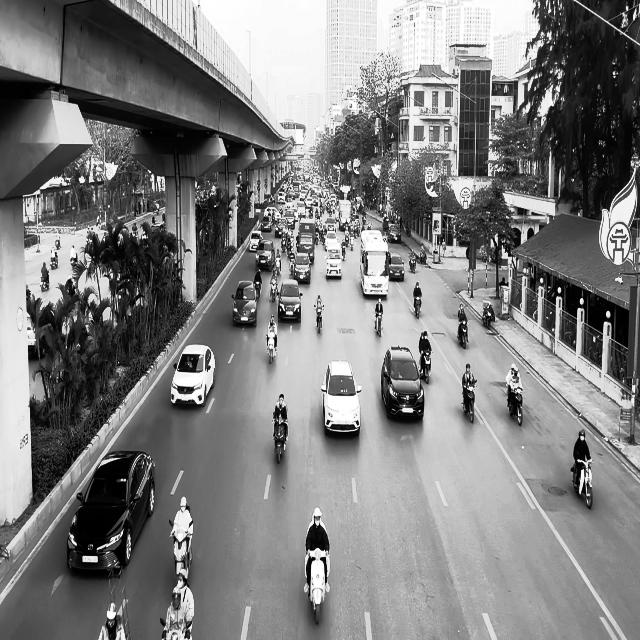car: (67, 450, 156, 575), (381, 345, 425, 421), (321, 359, 362, 436), (171, 344, 216, 406), (231, 280, 260, 326), (278, 278, 303, 323), (389, 254, 405, 281)
motorbike: (306, 548, 330, 624), (170, 519, 193, 582), (571, 458, 594, 509), (273, 415, 288, 463), (462, 378, 477, 422), (507, 384, 523, 425), (421, 349, 432, 383), (482, 302, 494, 328), (267, 332, 277, 363), (458, 320, 468, 348), (315, 304, 324, 332), (40, 271, 50, 291), (270, 278, 278, 302), (414, 295, 422, 318), (375, 313, 383, 336), (409, 255, 416, 272)
